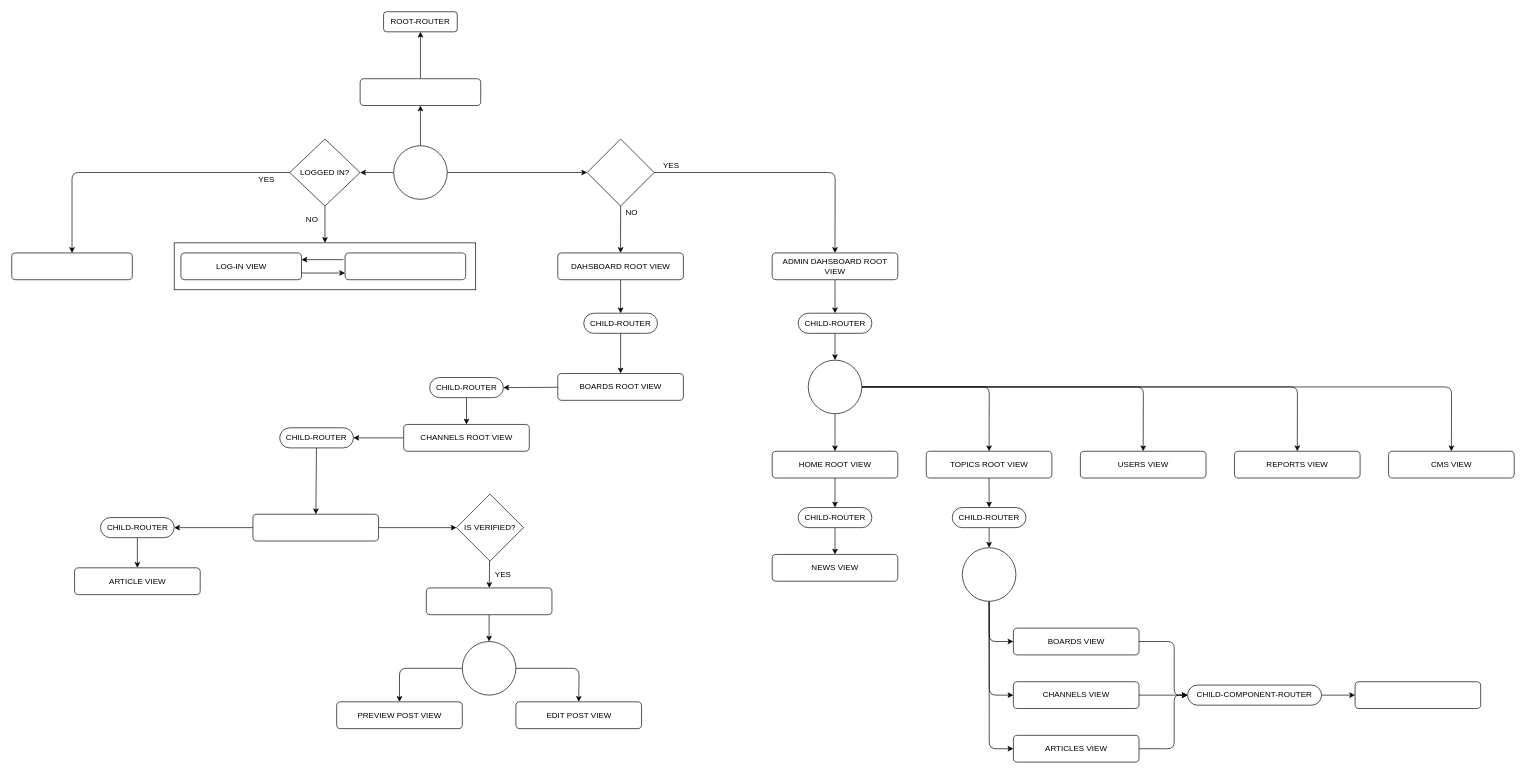
Some shapes in this 1526 by 774 pixel diagram are drawn without their labels. Here are the shapes that lost their labels. From the top down, the centre of each, then its label:
(420,92): LANDING PAGE VIEW
(620,172): PRIVILEGES?
(71,266): PROFILE ROOT VIEW
(405,266): SIGN-IN VIEW
(315,527): ARTICLES ROOT VIEW
(489,601): CREATE ARTICLE ROOT VIEW
(1417,695): EDIT VIEW
